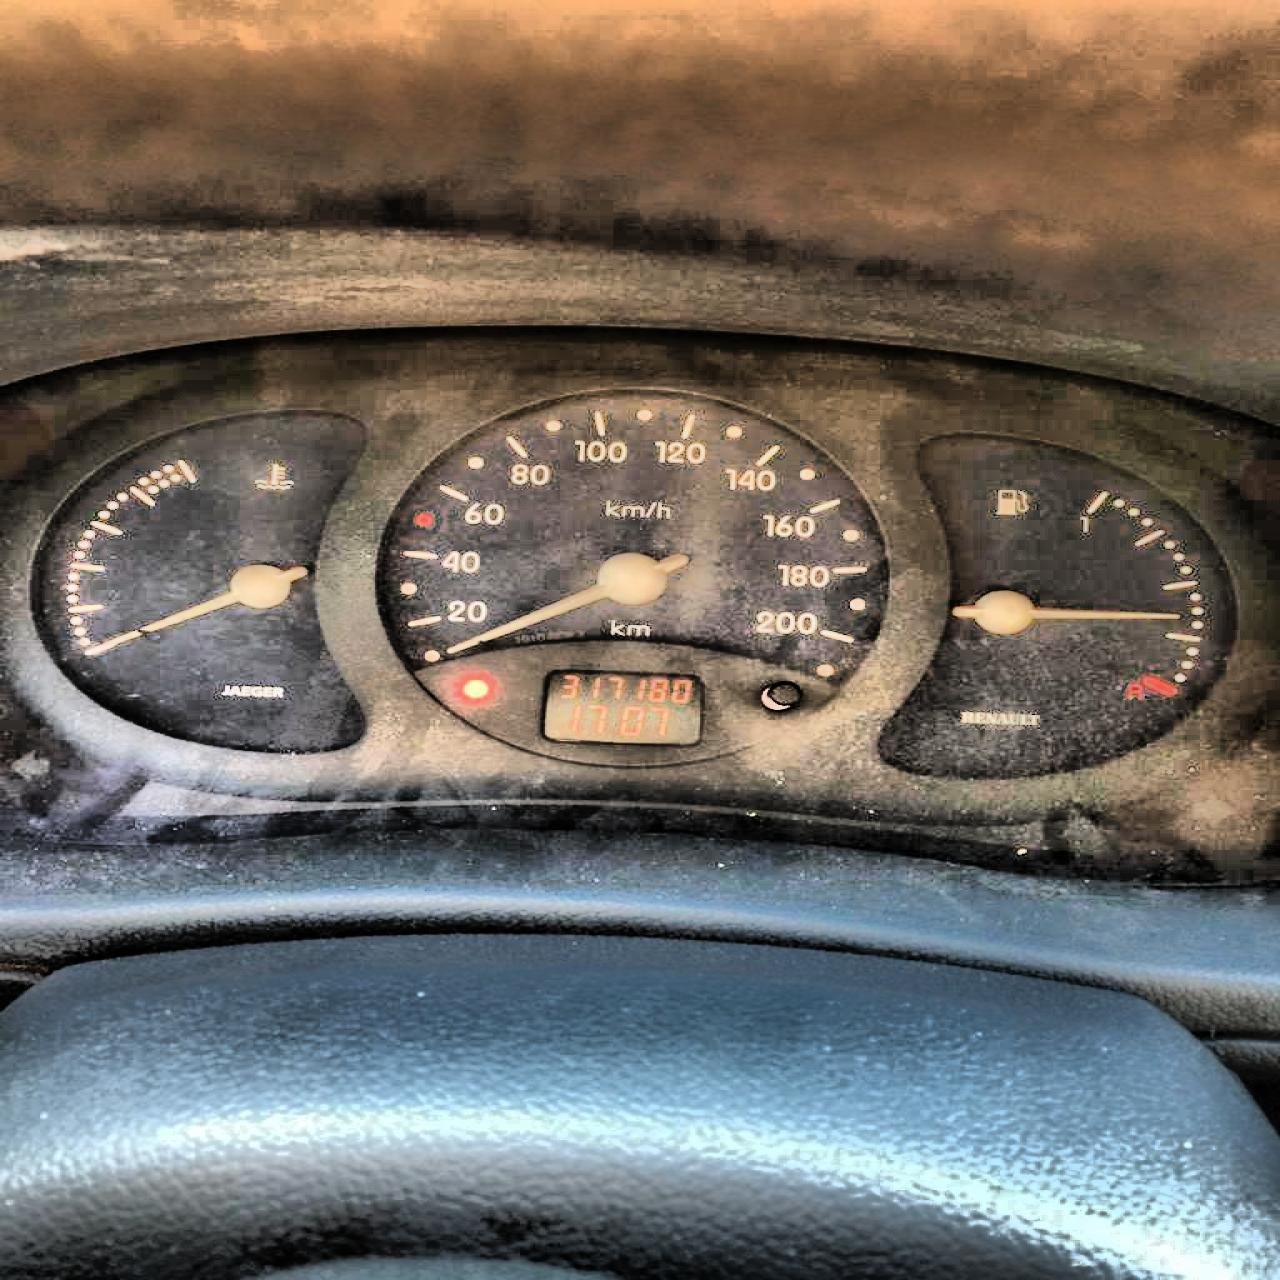0: (614, 704, 644, 735), (670, 678, 690, 702)
1: (565, 702, 581, 733), (585, 674, 604, 697), (632, 675, 647, 700)
3: (554, 673, 578, 699)
7: (645, 704, 670, 736), (584, 701, 608, 733), (605, 673, 625, 700)
8: (648, 676, 668, 701)
odometer: (537, 667, 706, 748)
